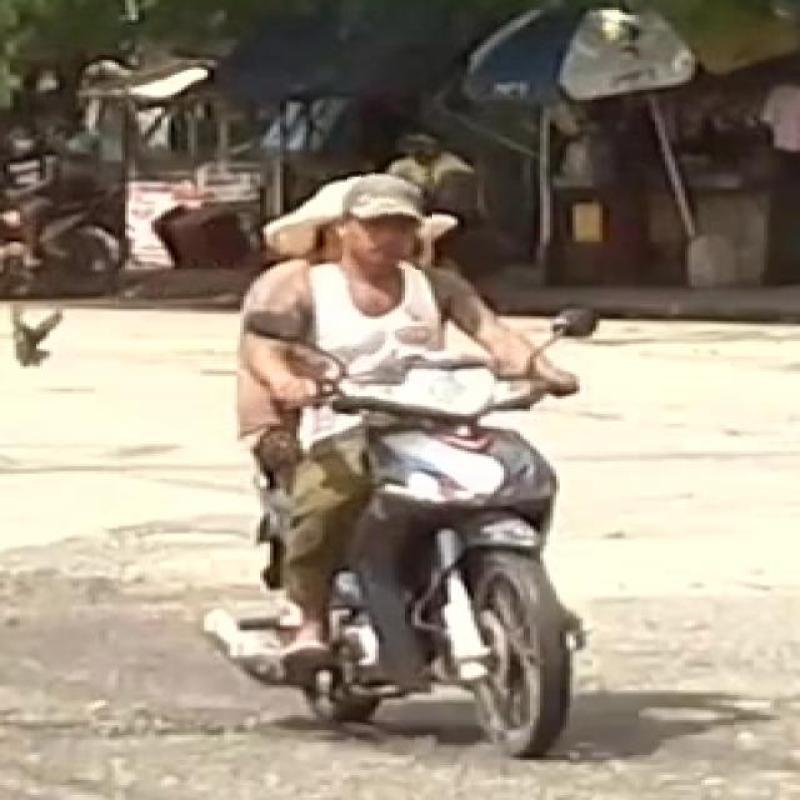nohelmet: (342, 172, 432, 270)
